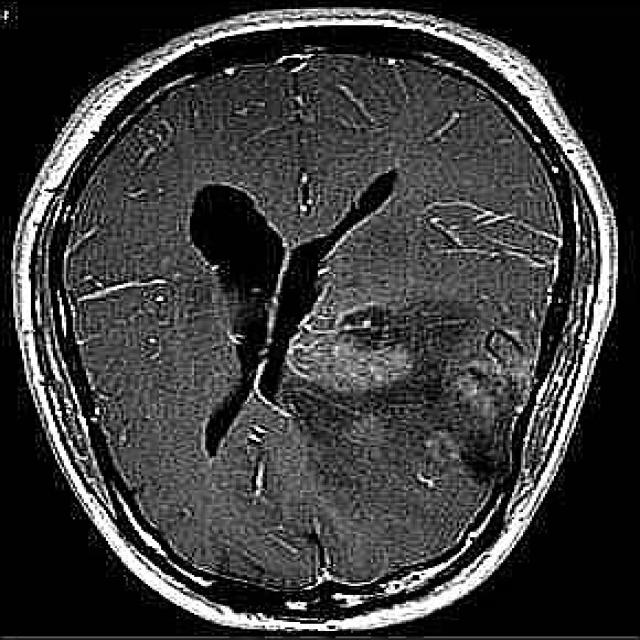Tumor-Cell: (337, 297, 506, 517)
